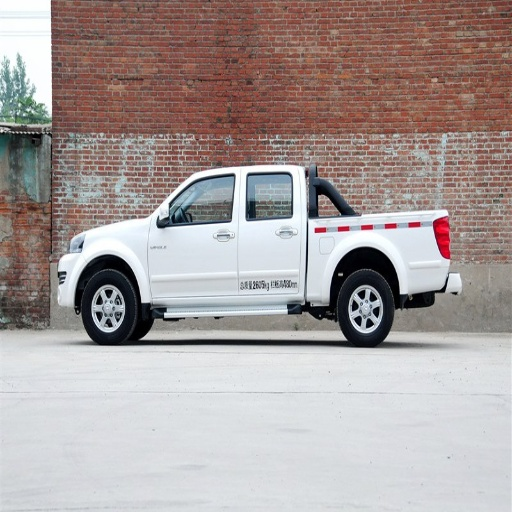back_left_door: (238, 170, 302, 291)
trunk: (304, 214, 450, 302)
